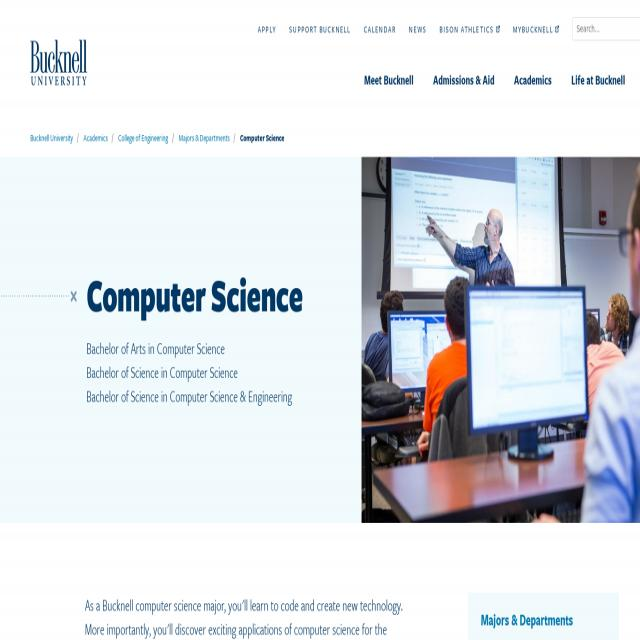button: (424, 61, 504, 102), (562, 61, 640, 101), (354, 61, 424, 102), (31, 40, 88, 85), (504, 61, 562, 102), (71, 290, 77, 302)
field: (572, 18, 640, 39)
